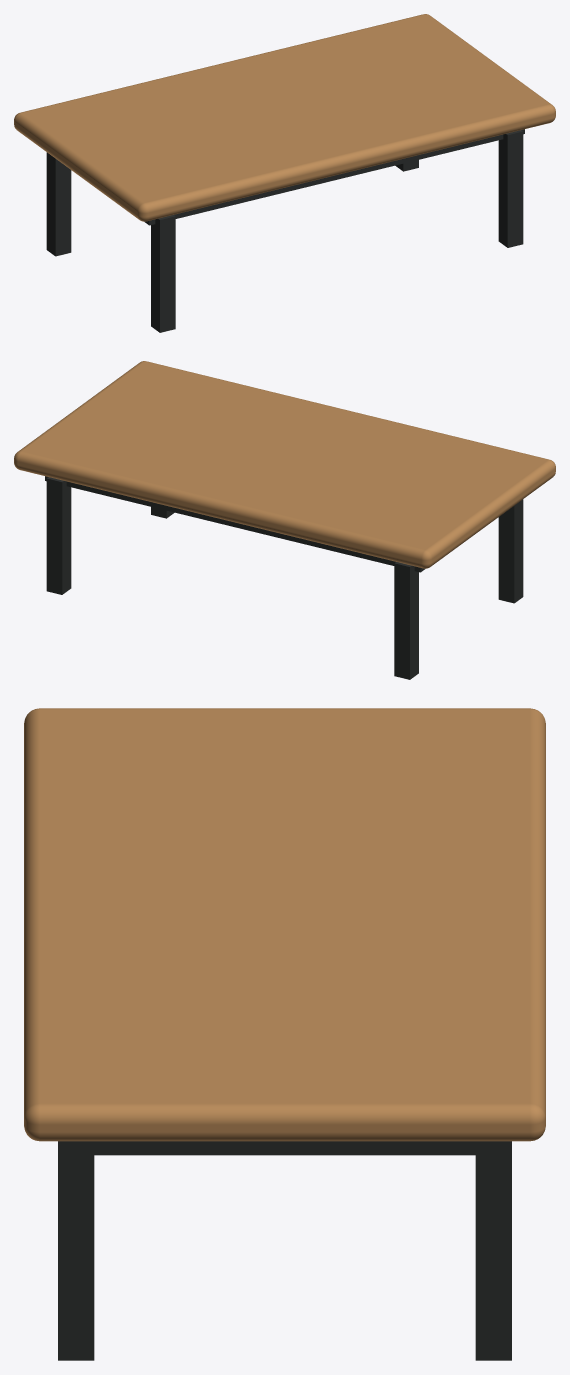
Rendered from coffee-table.glb.
3 renders of one model, top to bottom at view 1: azimuth 30°, elevation 25°; view 2: azimuth 150°, elevation 25°; view 3: azimuth 270°, elevation 25°, orthographic. The views are drawn at different scales.
Visible parts, largest first — view 1: top, frame_leg_0.5_0.26, frame_leg_-0.5_0.26, frame_leg_-0.5_-0.26, frame_apron; view 2: top, frame_leg_0.5_-0.26, frame_leg_-0.5_-0.26, frame_leg_-0.5_0.26, frame_apron; view 3: top, frame_leg_0.5_-0.26, frame_leg_0.5_0.26, frame_apron.
Part boxes in pixels (x1,y1,x2,y2): top: [14, 14, 555, 221]; frame_leg_0.5_0.26: [498, 130, 523, 247]; frame_leg_-0.5_0.26: [151, 215, 175, 332]; frame_leg_-0.5_-0.26: [46, 152, 71, 256]; frame_apron: [144, 129, 524, 225]; top: [14, 361, 555, 568]; frame_leg_0.5_-0.26: [46, 477, 71, 594]; frame_leg_-0.5_-0.26: [394, 562, 418, 679]; frame_leg_-0.5_0.26: [498, 499, 523, 603]; frame_apron: [45, 476, 425, 572]; top: [24, 708, 545, 1141]; frame_leg_0.5_-0.26: [475, 1141, 511, 1360]; frame_leg_0.5_0.26: [58, 1141, 94, 1360]; frame_apron: [76, 1141, 493, 1155].
Size of the model in its own units: 1.2 by 0.38 by 0.65.
